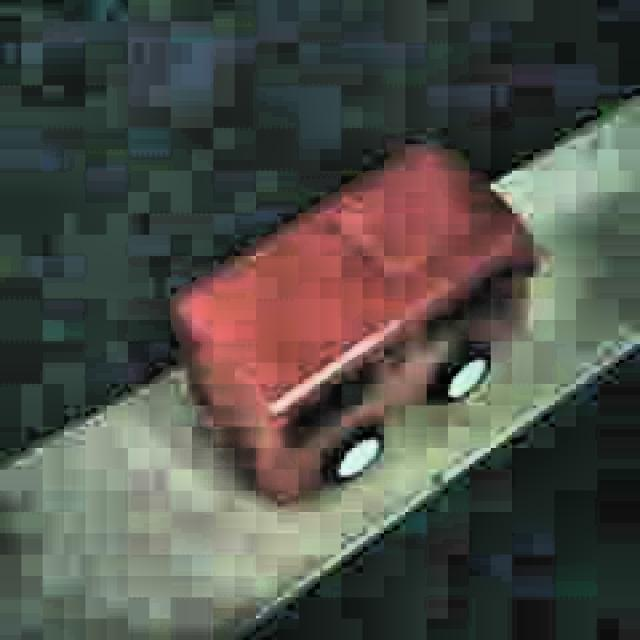bus: (170, 139, 538, 504)
